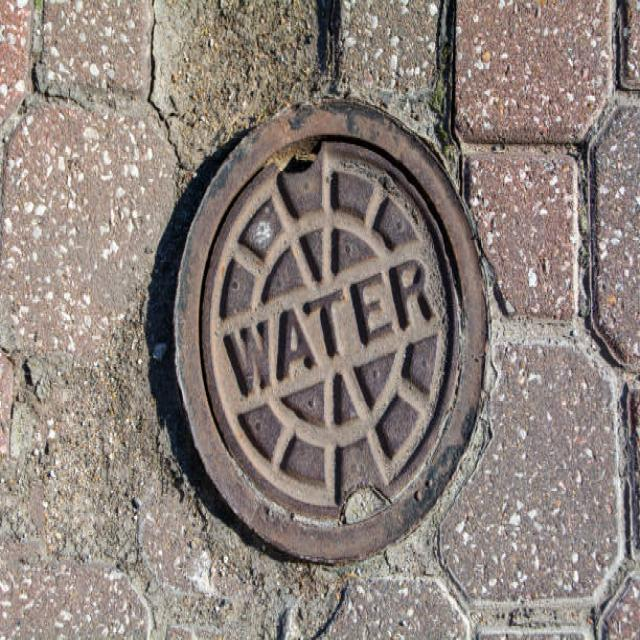Good: (165, 93, 512, 576)
